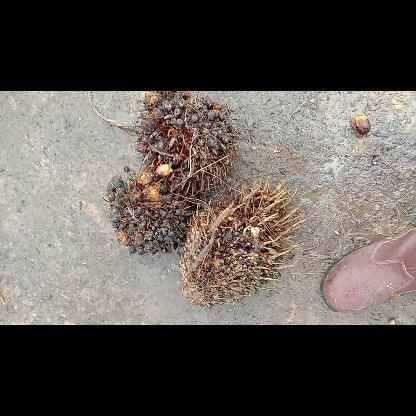TBS abnormal: (178, 177, 306, 307), (134, 91, 238, 193), (106, 164, 194, 254)
